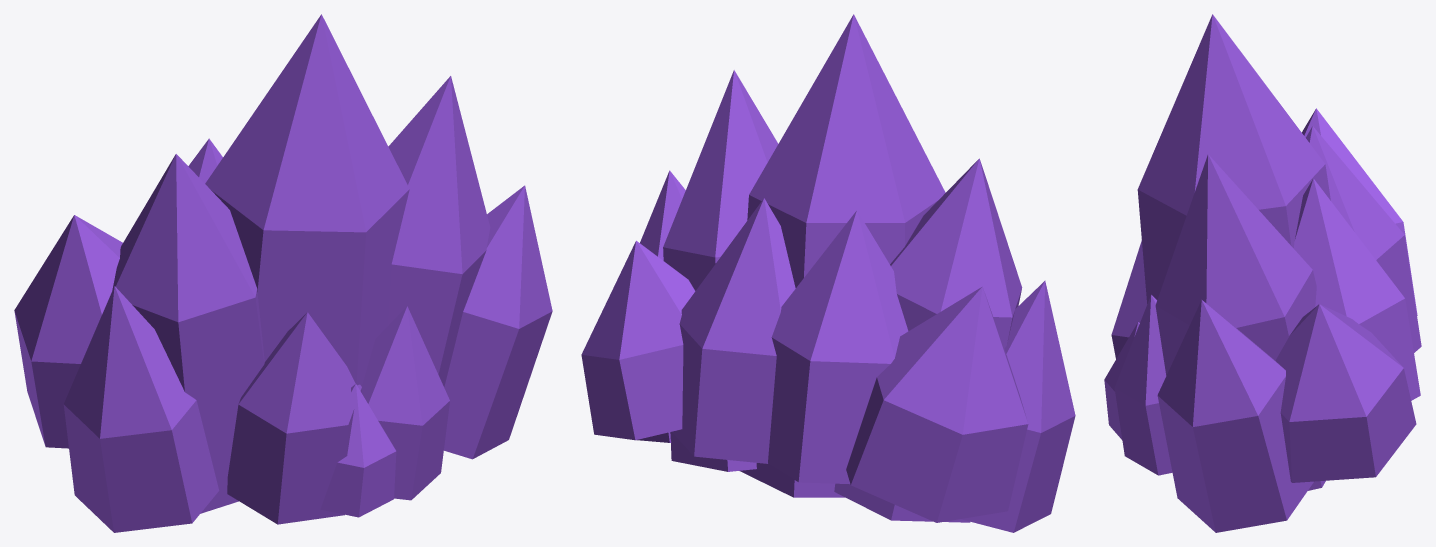
Rendered from Geode_Cluster_A.fbx.
3 views of the same model, side by side, from view 1: azimuth 30°, elevation 25°; view 2: azimuth 150°, elevation 25°; view 3: azimuth 270°, elevation 25° (orthographic). The views are drawn at different scales.
Visible parts, largest first — view 1: Crystal1, Crystal2, Crystal3; view 2: Crystal2, Crystal1, Crystal3; view 3: Crystal2, Crystal1, Crystal3.
Part boxes in pixels (bbox=[...]): Crystal1: bbox=[63, 14, 449, 532]; Crystal2: bbox=[14, 154, 552, 517]; Crystal3: bbox=[188, 76, 490, 524]; Crystal2: bbox=[581, 158, 1028, 522]; Crystal1: bbox=[672, 14, 1075, 532]; Crystal3: bbox=[663, 70, 908, 484]; Crystal2: bbox=[1104, 108, 1417, 532]; Crystal1: bbox=[1114, 14, 1420, 475]; Crystal3: bbox=[1111, 126, 1421, 490].
Size of the model in its own units: 1.27 by 1.26 by 0.8317.
